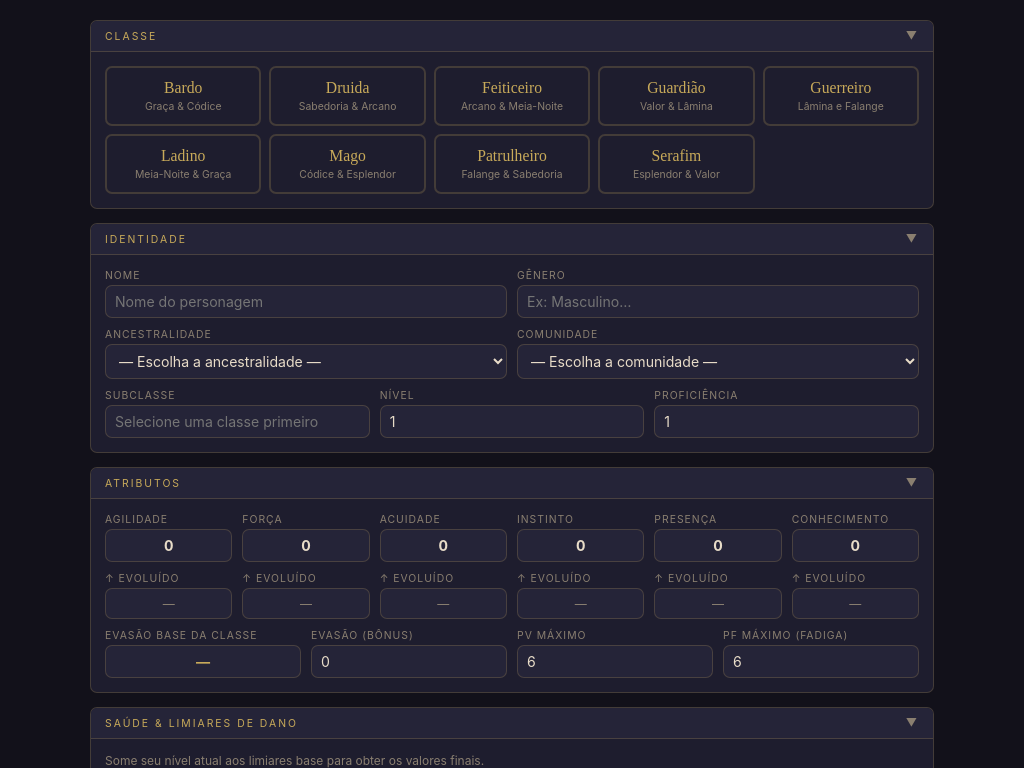
Test: FormScreen — seleção de classe › selecionar Guerreiro preenche Evasão base 11
Click the text "Guerreiro": {"x": 841, "y": 88} [810, 79, 871, 96]
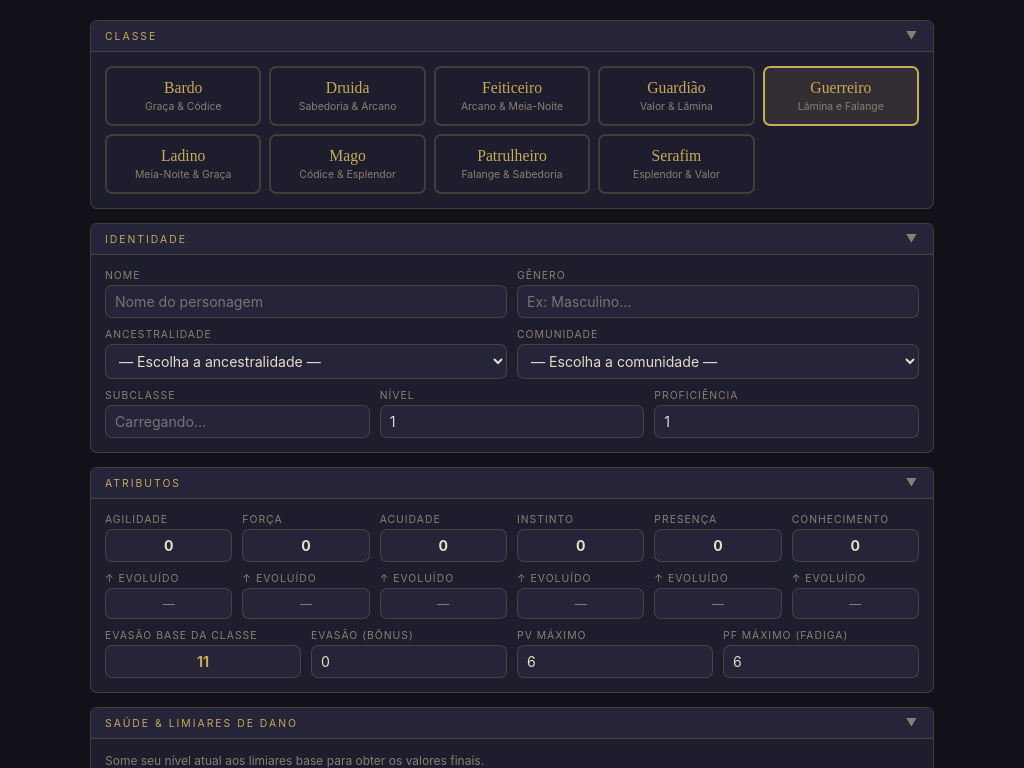
Expected: the field showing "11" is shown, [105, 645, 301, 678]
